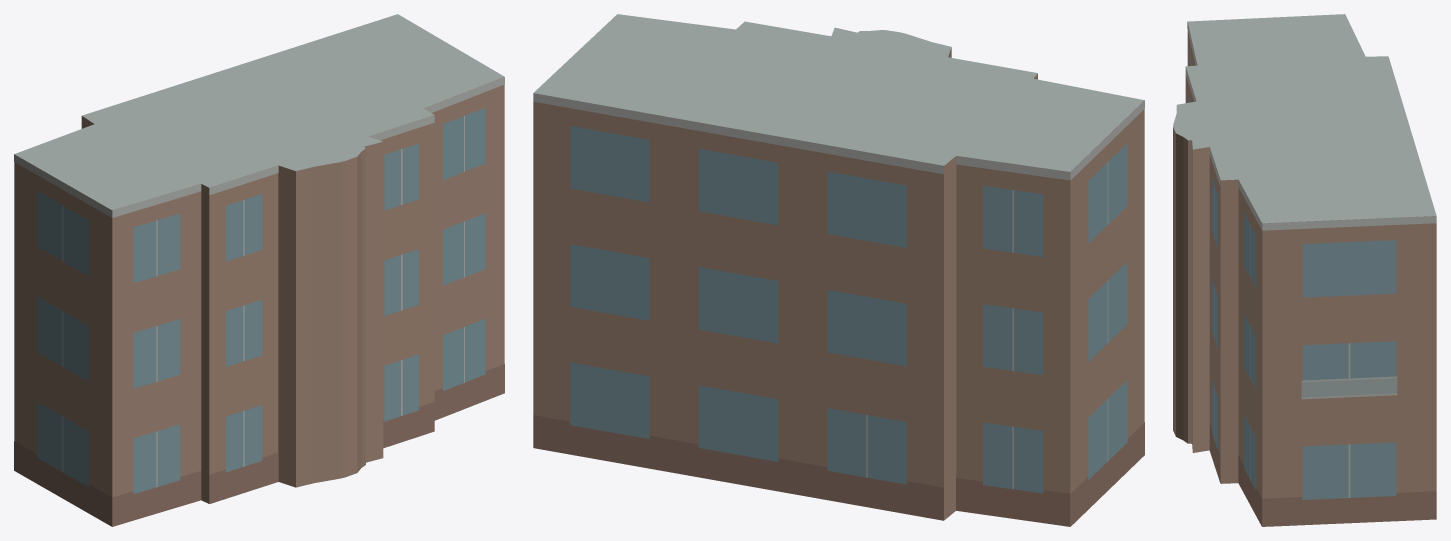
The model's file is survey-upis-32897380.glb.
3 renders of one model, left to right at view 1: azimuth 30°, elevation 25°; view 2: azimuth 150°, elevation 25°; view 3: azimuth 270°, elevation 25°, orthographic. The views are drawn at different scales.
Visible parts, largest first — view 1: survey-upis-32897380.tmp; view 2: survey-upis-32897380.tmp; view 3: survey-upis-32897380.tmp.
Part boxes in pixels (x1,y1,x2,y2): survey-upis-32897380.tmp: [14, 14, 504, 526]; survey-upis-32897380.tmp: [533, 14, 1144, 526]; survey-upis-32897380.tmp: [1173, 14, 1436, 526].
Size of the model in its own units: 14.95 by 10.1 by 7.95.
